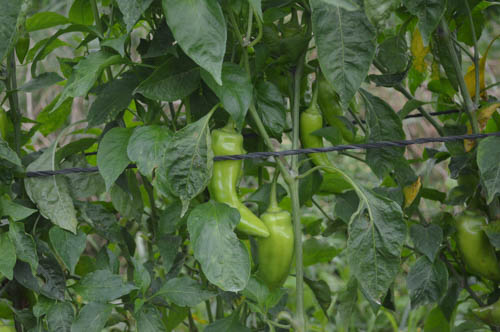ChiliPepper: (213, 129, 269, 241), (252, 211, 293, 287), (319, 81, 365, 146), (457, 211, 494, 278), (302, 111, 333, 175)
